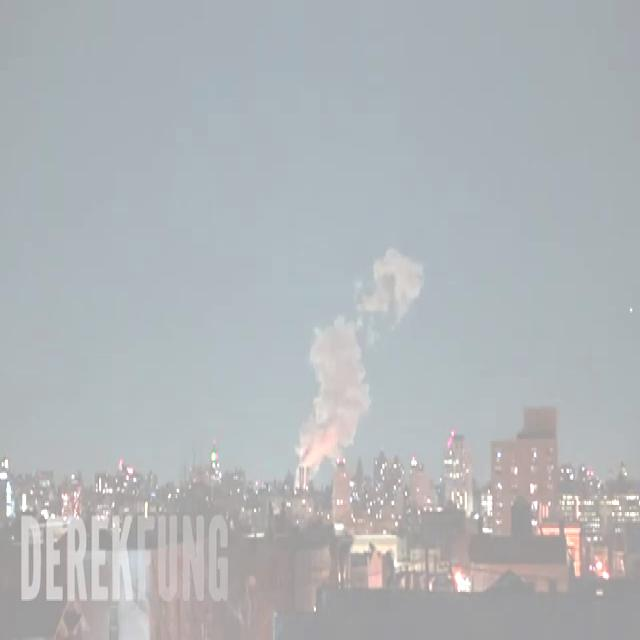smoke: (298, 245, 426, 481)
